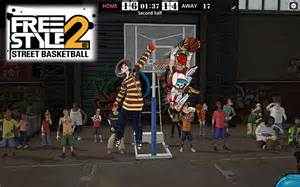basketball: (185, 37, 199, 51)
